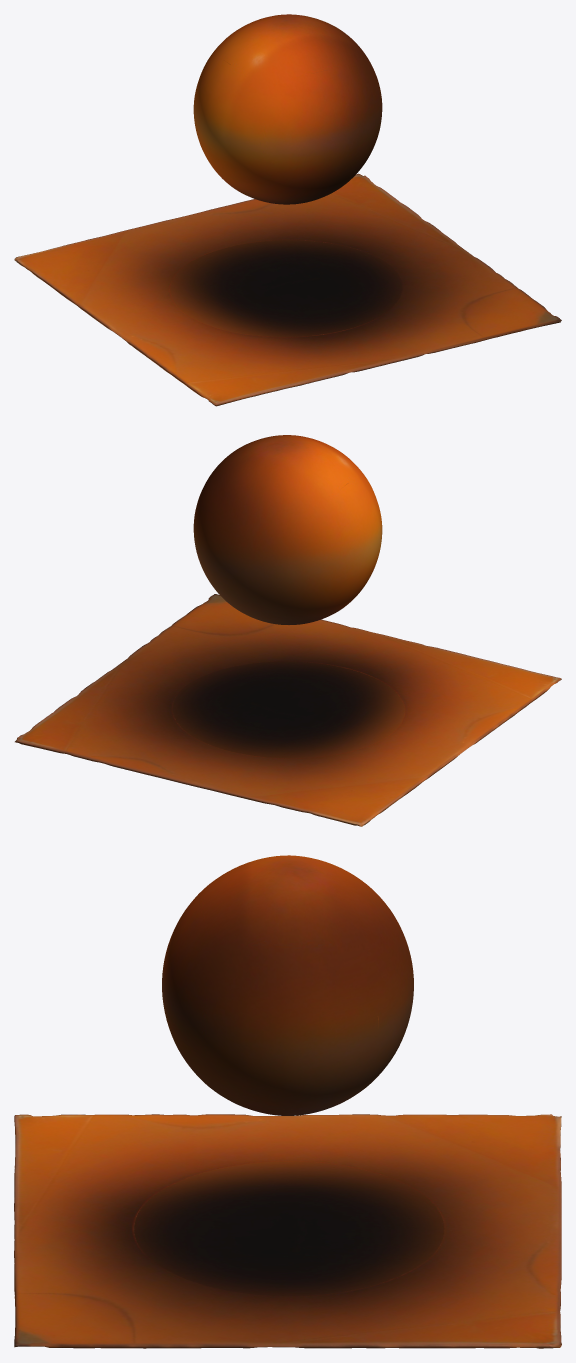
File: mystic_orange.glb
3 views of the same model, one above another, from view 1: azimuth 30°, elevation 25°; view 2: azimuth 150°, elevation 25°; view 3: azimuth 270°, elevation 25° (orthographic). The views are drawn at different scales.
Size of the model in its own units: 2 by 1.47 by 2.
Materials: 1 (1 with a texture image).
